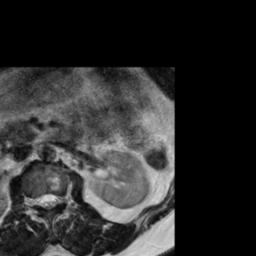CCS_normal: (43, 189, 51, 213)
LFS_normal: (58, 190, 63, 209)
LLS_normal: (51, 189, 57, 210)
RFS_normal: (30, 191, 38, 207)
RLS_normal: (38, 189, 44, 211)
